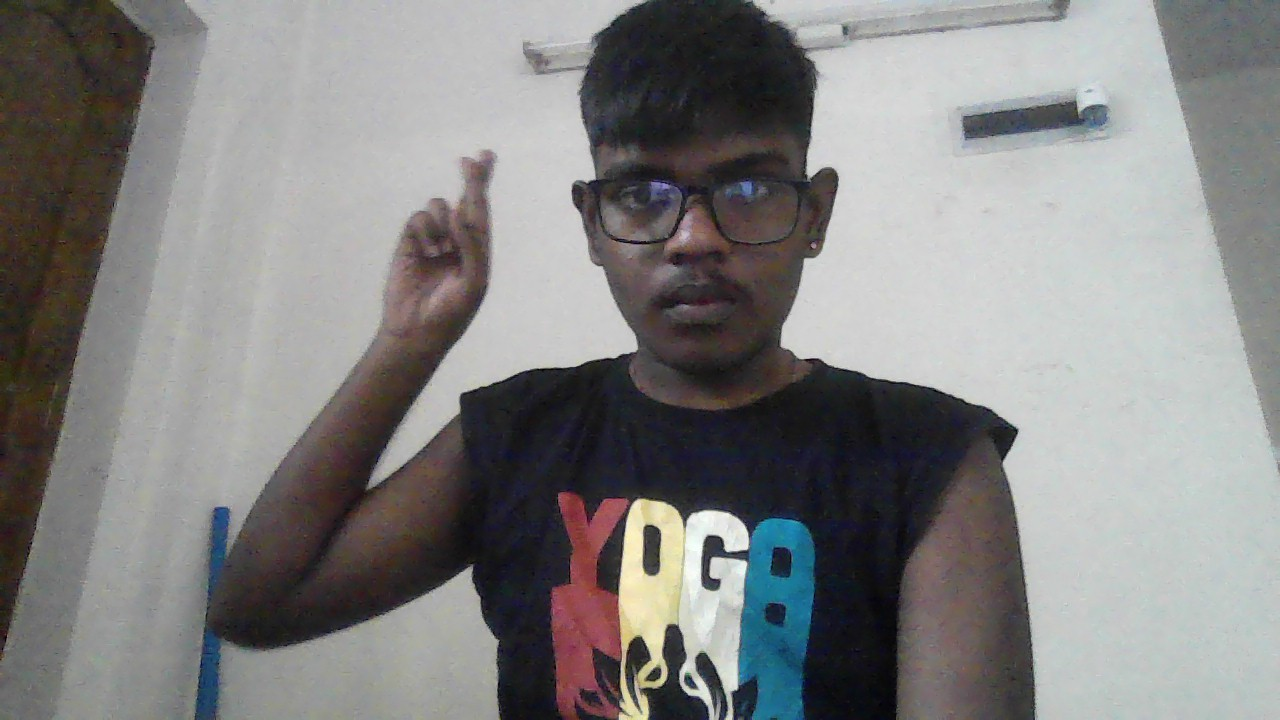R: (384, 150, 495, 342)
